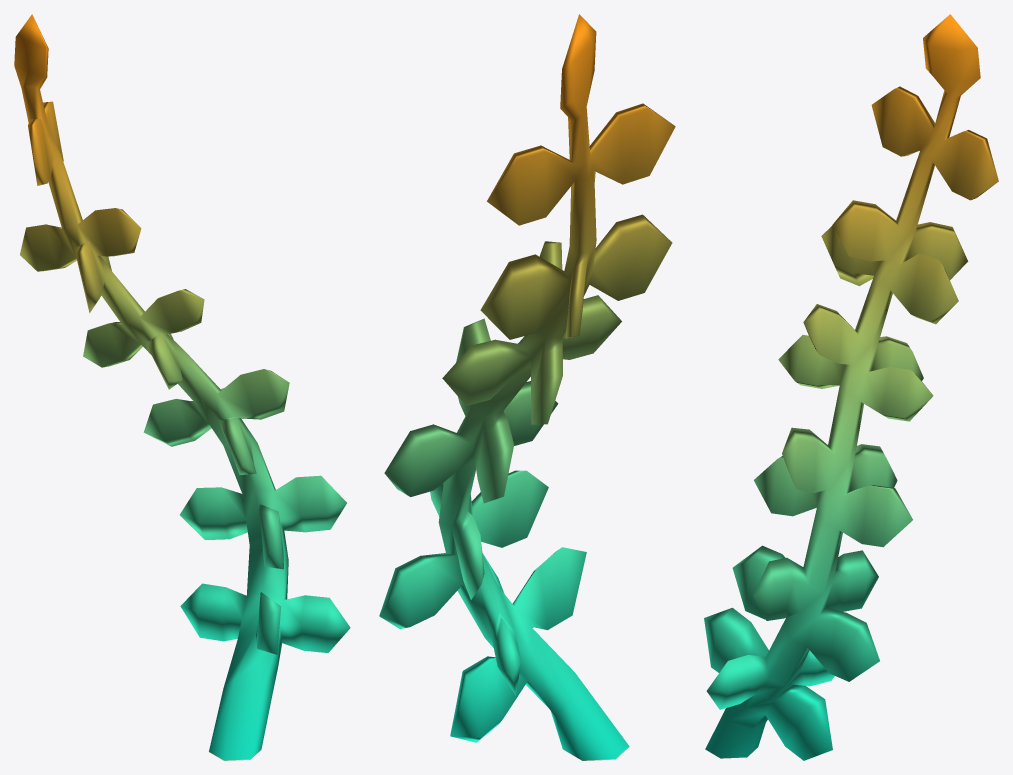
Rendered from MOD_Coral6.fbx.
3 views of the same model, side by side, from view 1: azimuth 30°, elevation 25°; view 2: azimuth 150°, elevation 25°; view 3: azimuth 270°, elevation 25° (orthographic). The views are drawn at different scales.
Visible parts, largest first — view 1: MOD_Coral6; view 2: MOD_Coral6; view 3: MOD_Coral6.
Boxes of the visible parts, box(x1,y1,x2,y2) form: MOD_Coral6: box(14, 14, 350, 760); MOD_Coral6: box(379, 14, 675, 760); MOD_Coral6: box(704, 14, 998, 760).
Size of the model in its own units: 1.3 by 3.31 by 1.29.
1 material, 1 textured.
